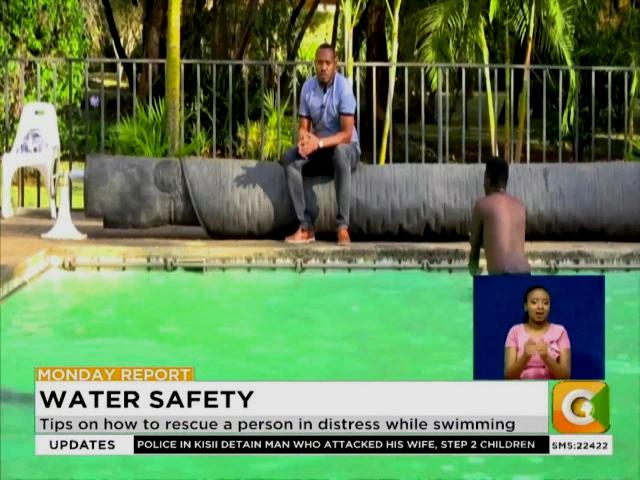out of water: (290, 31, 361, 260), (452, 135, 547, 276)
